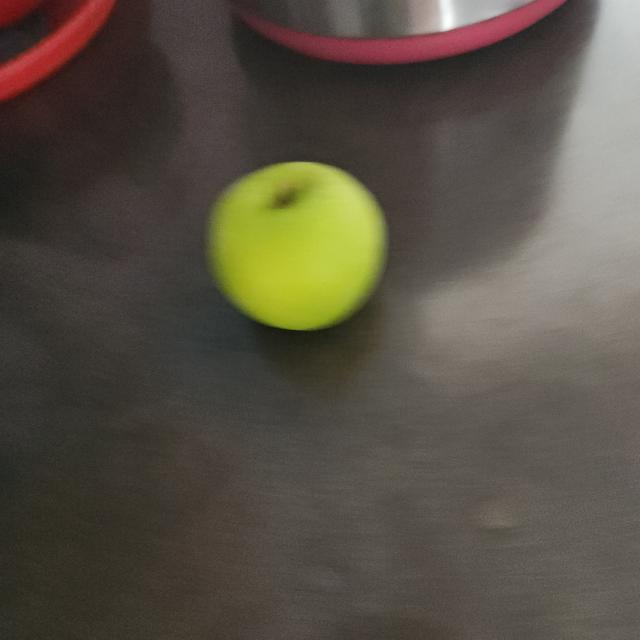apple: (199, 156, 394, 342)
